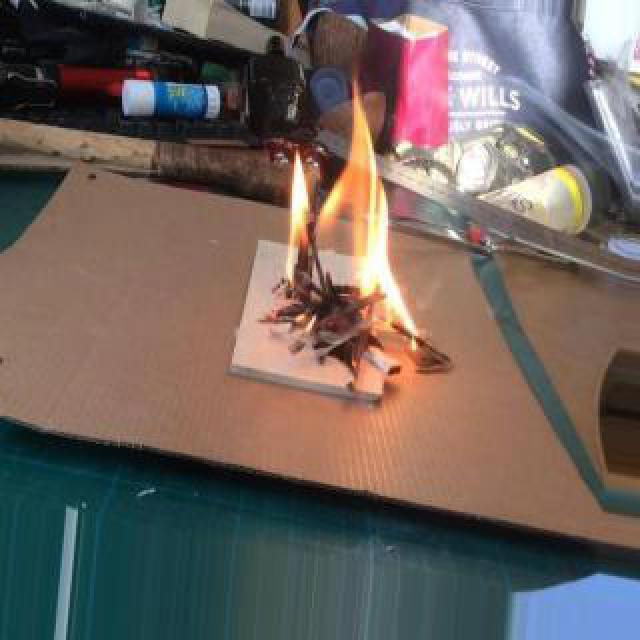Fire: (280, 82, 422, 358)
